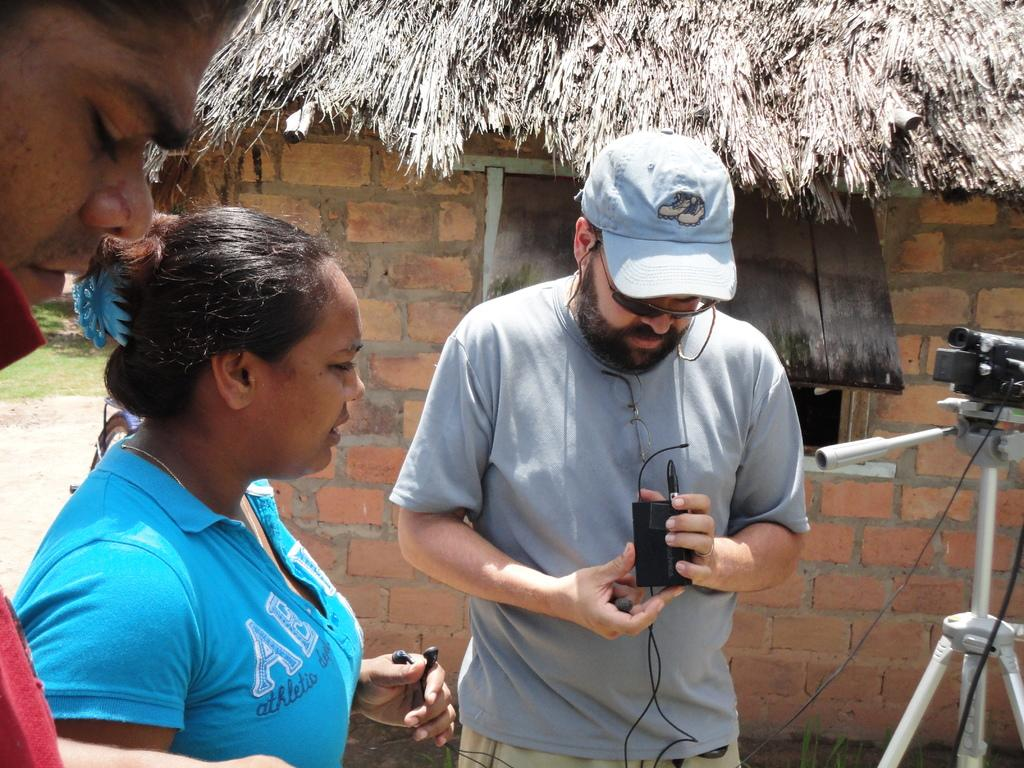Hat: (580, 125, 735, 308)
